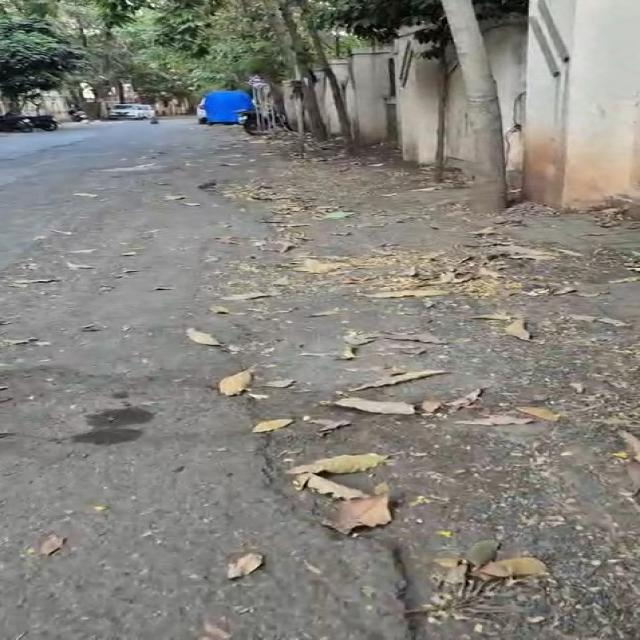obstacle: (325, 0, 528, 209), (442, 0, 506, 210), (299, 0, 353, 152), (0, 16, 84, 110)
